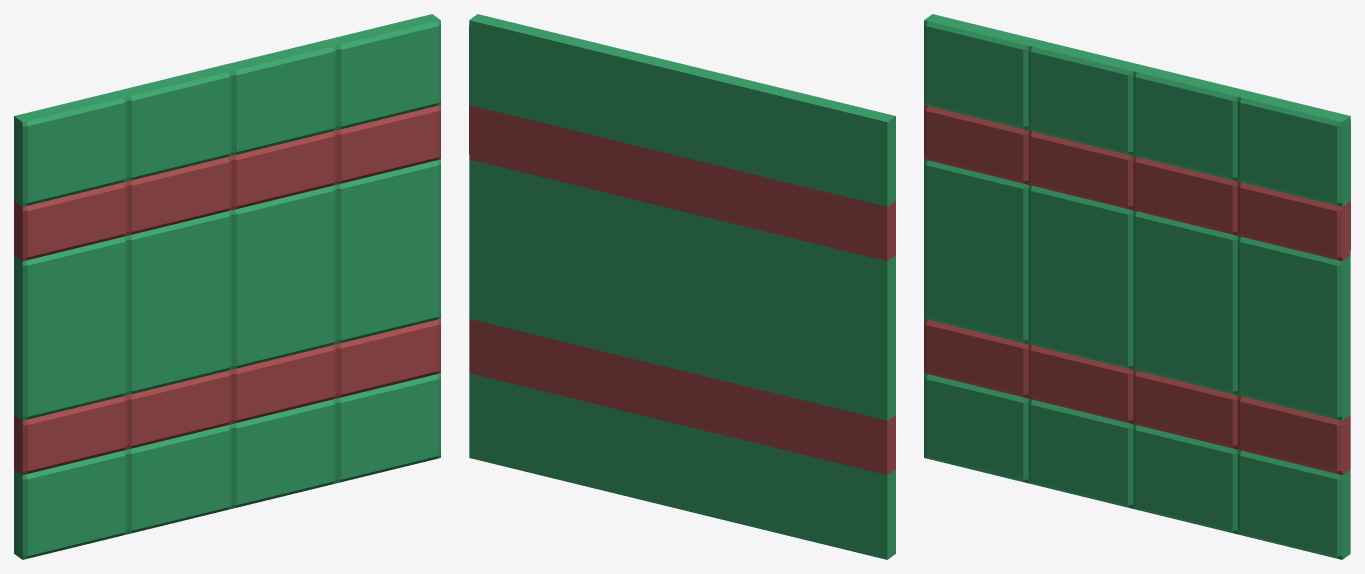
Rendered from wall1.fbx.
3 renders of one model, left to right at view 1: azimuth 30°, elevation 25°; view 2: azimuth 150°, elevation 25°; view 3: azimuth 330°, elevation 25°, orthographic.
Visible parts, largest first — view 1: wall; view 2: wall; view 3: wall.
Boxes of the visible parts, box(x1,y1,x2,y2) form: wall: box(14, 14, 440, 559); wall: box(469, 14, 895, 559); wall: box(924, 14, 1350, 559).
Size of the model in its own units: 20 by 20 by 0.8343.
